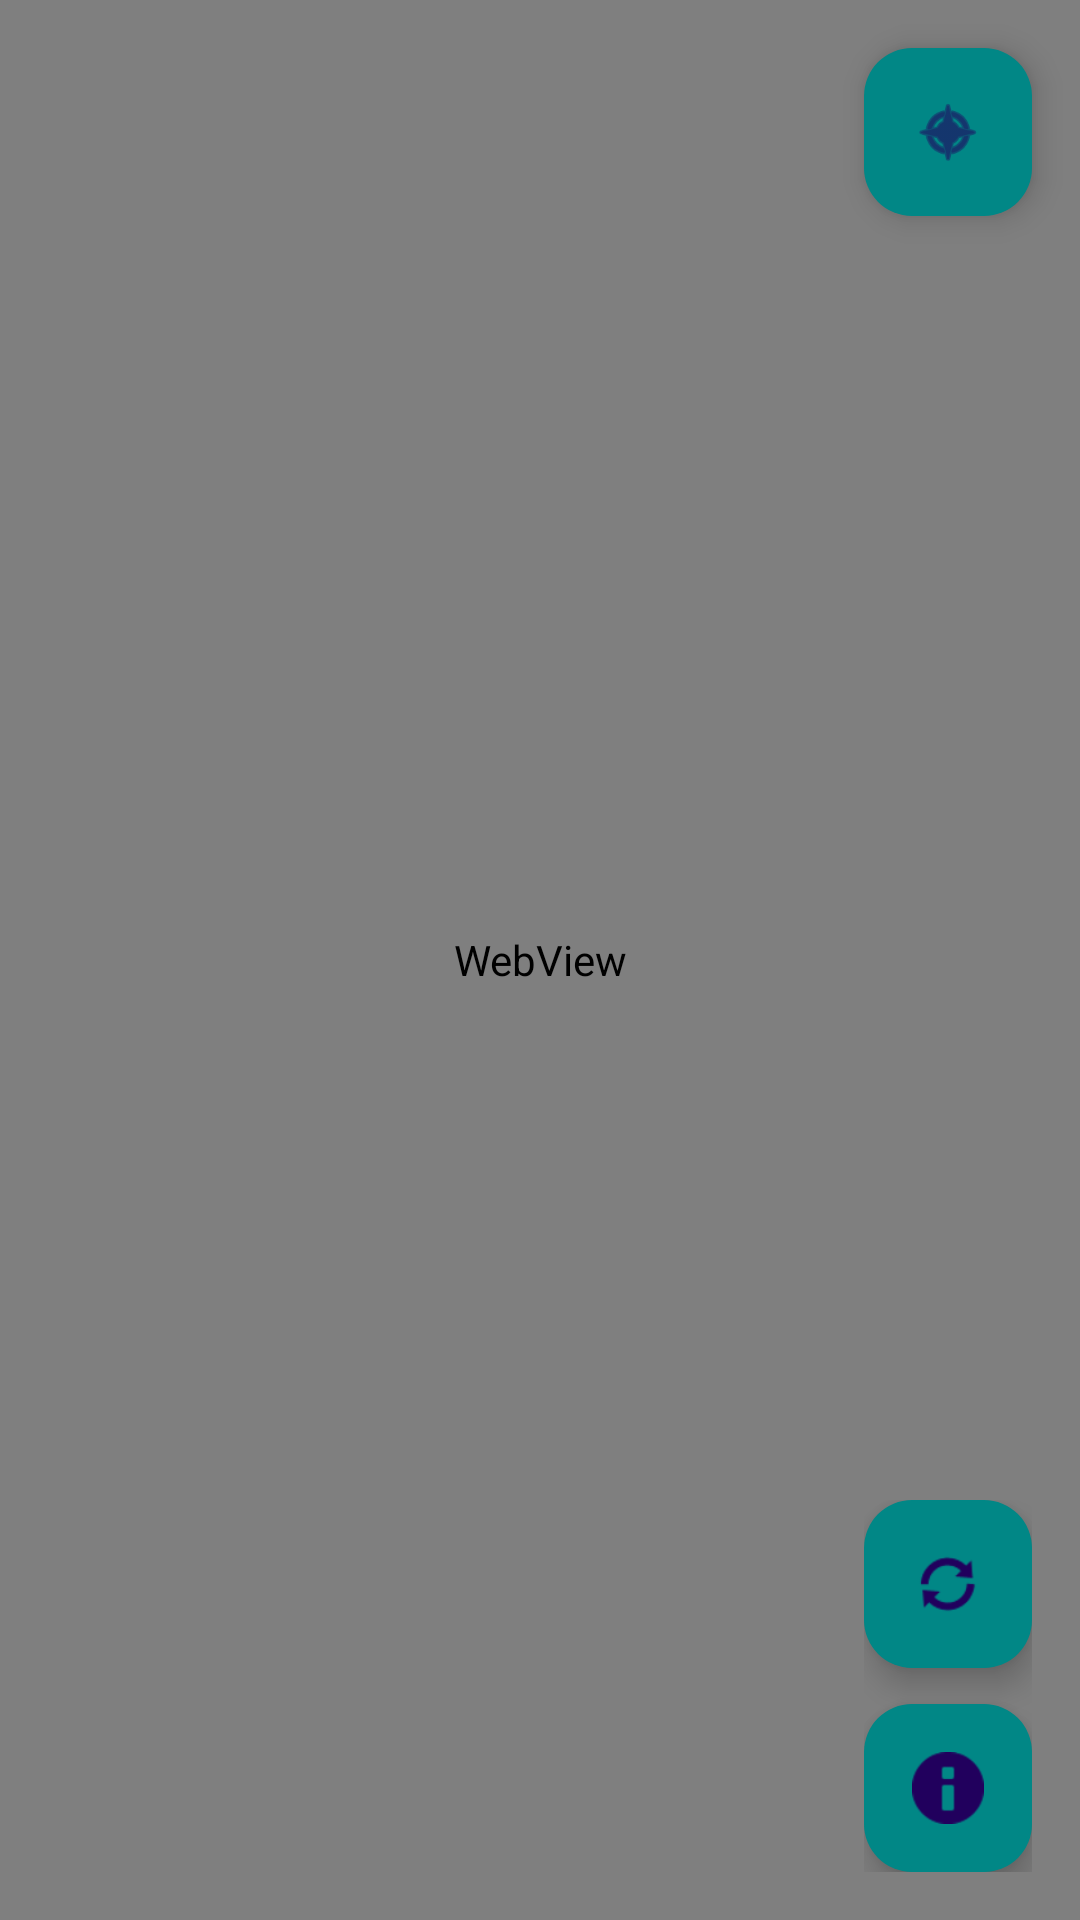

Icons on this 1080x1920 Android screen, each with its box as (x1, y1, x2, y2):
compass: (864, 48, 1032, 216)
info: (864, 1704, 1032, 1872)
popup sync: (864, 1500, 1032, 1668)
